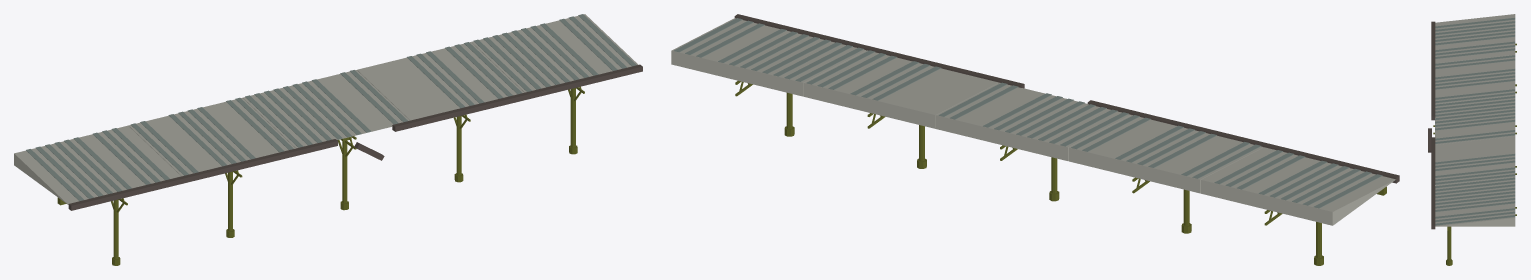
Rendered from SM_marquesina_v5_LOD0.fbx.
3 views of the same model, side by side, from view 1: azimuth 30°, elevation 25°; view 2: azimuth 150°, elevation 25°; view 3: azimuth 270°, elevation 25° (orthographic). The views are drawn at different scales.
Parts seen in each view (by area): view 1: SM_bloques.marquesina_v5_LOD0; view 2: SM_bloques.marquesina_v5_LOD0; view 3: SM_bloques.marquesina_v5_LOD0.
Part boxes in pixels (x1,y1,x2,y2): SM_bloques.marquesina_v5_LOD0: [14, 14, 642, 265]; SM_bloques.marquesina_v5_LOD0: [671, 14, 1399, 265]; SM_bloques.marquesina_v5_LOD0: [1428, 14, 1516, 265].
Size of the model in its own units: 30 by 4.63 by 5.52.
